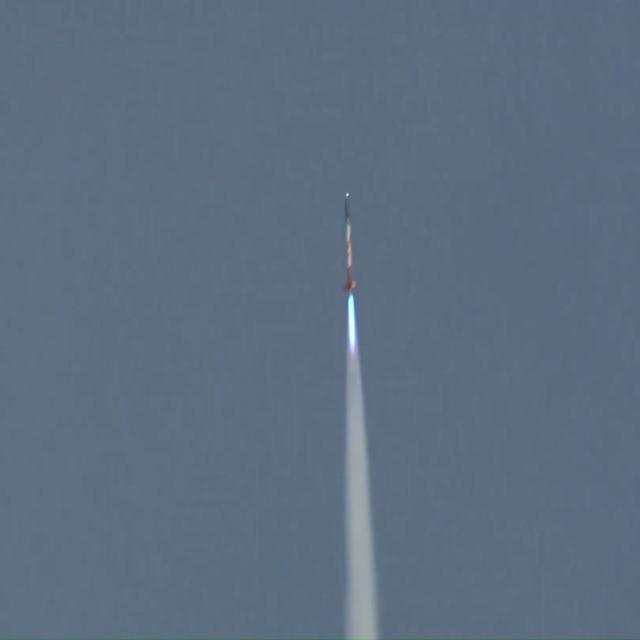Rocket: (343, 192, 357, 300)
